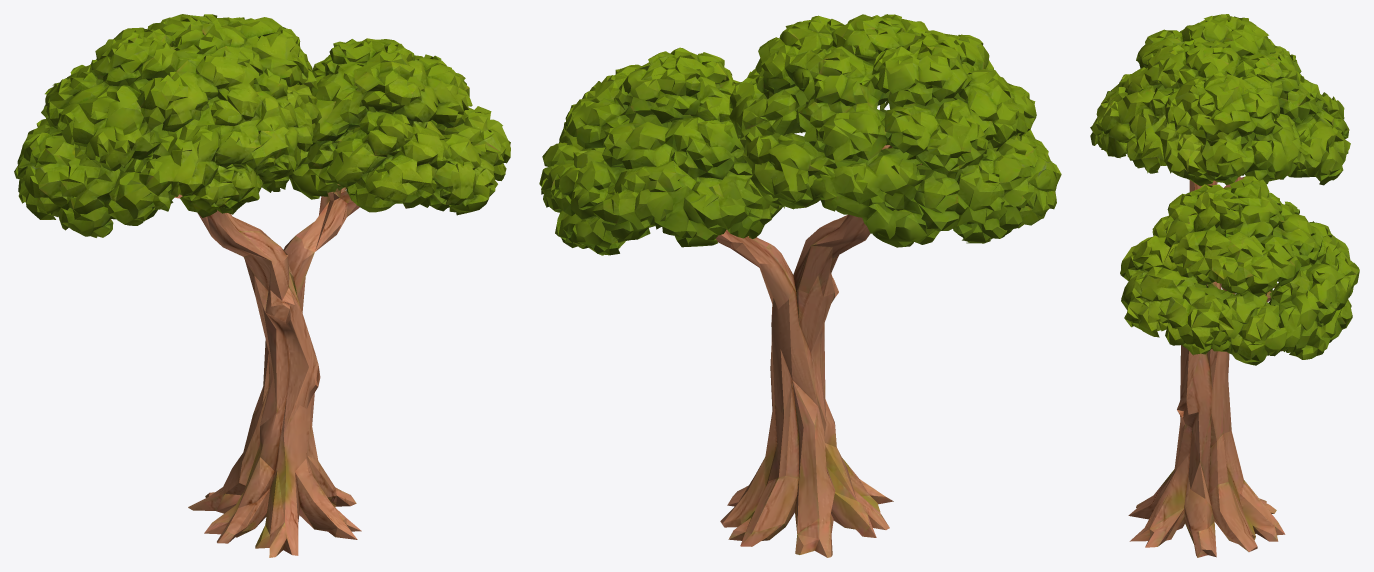
File: tree_puffy2.glb
3 views of the same model, side by side, from view 1: azimuth 30°, elevation 25°; view 2: azimuth 150°, elevation 25°; view 3: azimuth 270°, elevation 25° (orthographic). The views are drawn at different scales.
Size of the model in its own units: 1.88 by 1.9 by 1.03.
Materials: 1 (1 with a texture image).
